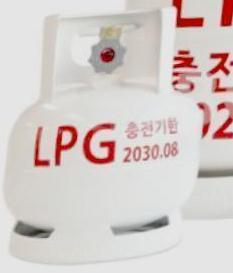cylinder: (1, 0, 233, 273)
